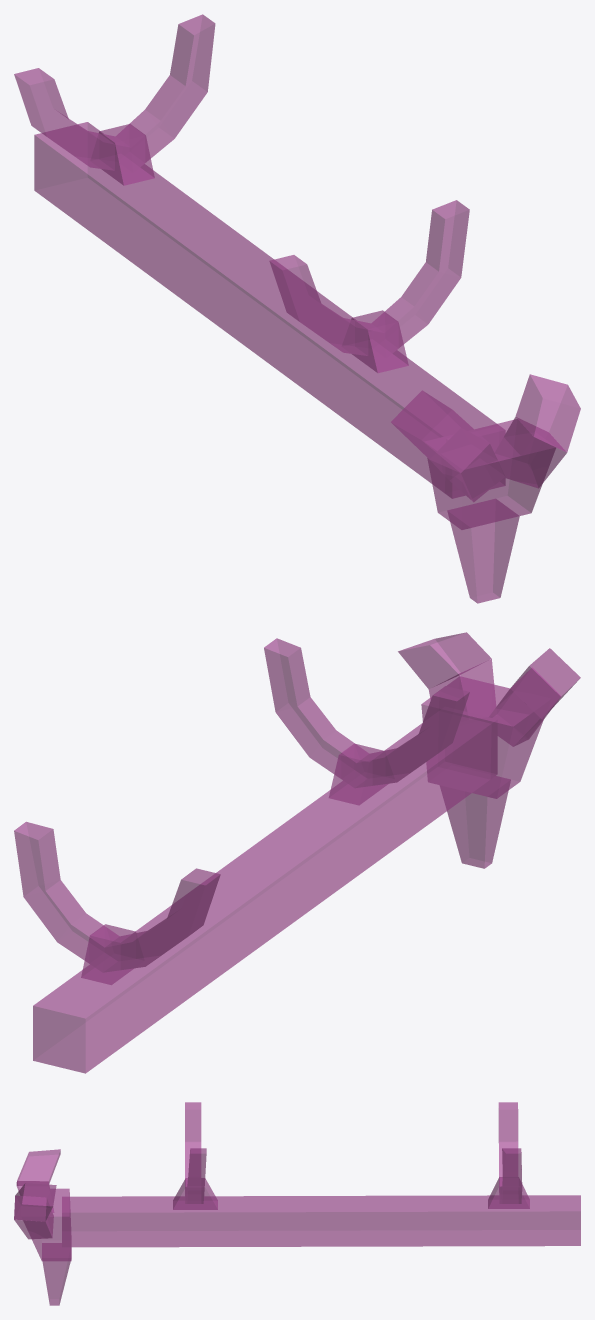
Rendered from SM_Veh_BatteringRam_01_Ram_01_Collision.fbx.
The picture shows the model from 3 angles, top to bottom: view 1: azimuth 30°, elevation 25°; view 2: azimuth 150°, elevation 25°; view 3: azimuth 270°, elevation 25°; orthographic projection. The views are drawn at different scales.
Parts seen in each view (by area): view 1: SM_Veh_BatteringRam_01_Ram_01_Collision; view 2: SM_Veh_BatteringRam_01_Ram_01_Collision; view 3: SM_Veh_BatteringRam_01_Ram_01_Collision.
Boxes of the visible parts, <box> form: SM_Veh_BatteringRam_01_Ram_01_Collision: <box>14,14,580,603</box>; SM_Veh_BatteringRam_01_Ram_01_Collision: <box>14,632,580,1073</box>; SM_Veh_BatteringRam_01_Ram_01_Collision: <box>14,1102,580,1305</box>.
Bounding box in the file's own units: 97.18 × 138 × 401.
